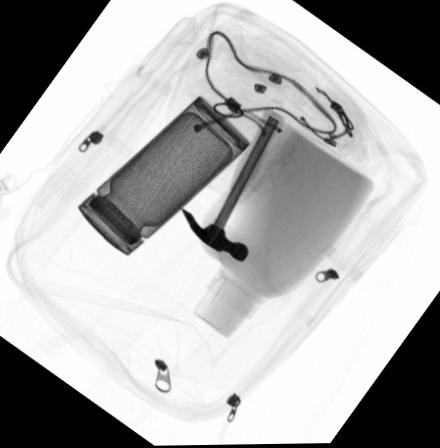Hammer: (177, 107, 283, 264)
